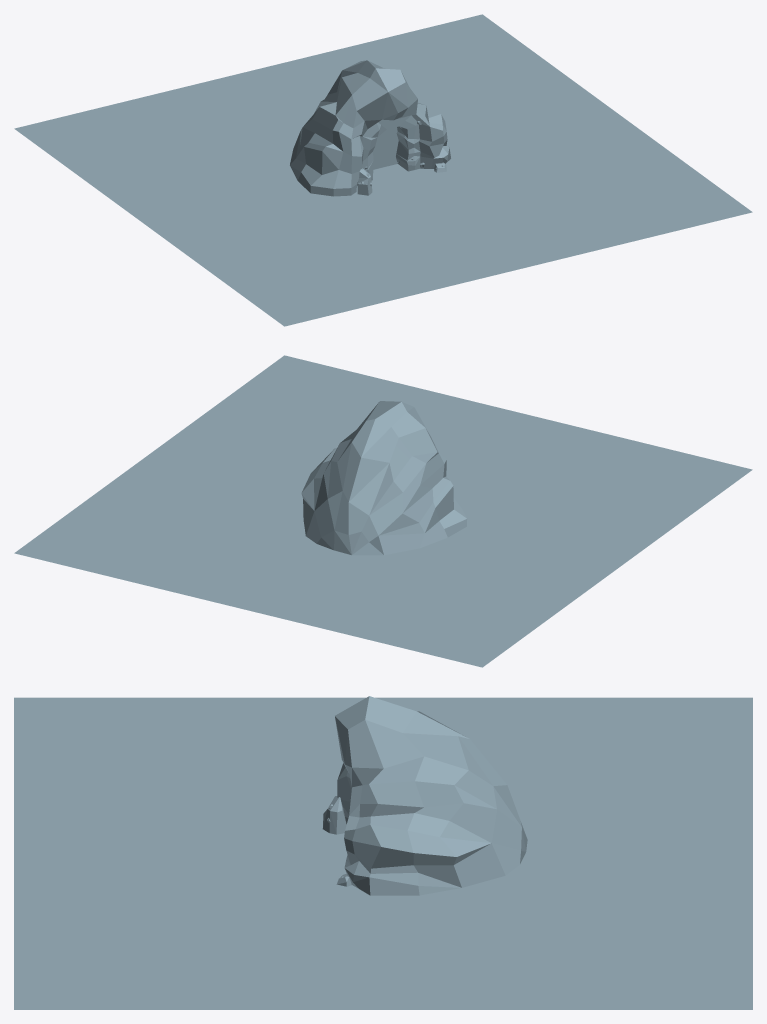
Rendered from Tile 51_Combined.fbx.
The picture shows the model from 3 angles, top to bottom: view 1: azimuth 30°, elevation 25°; view 2: azimuth 150°, elevation 25°; view 3: azimuth 270°, elevation 25°; orthographic projection. The views are drawn at different scales.
Visible parts, largest first — view 1: MeshBaker_mesh_mesh; view 2: MeshBaker_mesh_mesh; view 3: MeshBaker_mesh_mesh.
Boxes of the visible parts, bbox=[...] form: MeshBaker_mesh_mesh: bbox=[14, 14, 752, 326]; MeshBaker_mesh_mesh: bbox=[14, 355, 752, 667]; MeshBaker_mesh_mesh: bbox=[14, 696, 752, 1009].
Size of the model in its own units: 3000 by 668 by 3000.
